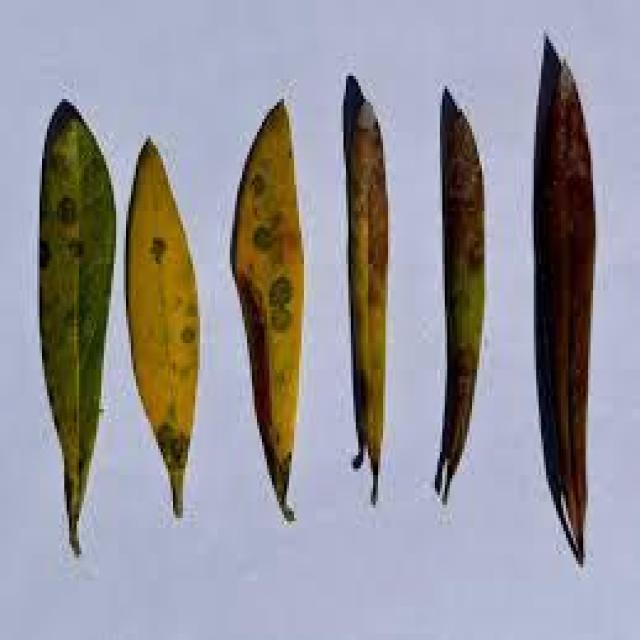Peacock Eye: (40, 99, 114, 554), (230, 102, 301, 521), (124, 142, 198, 515), (435, 86, 482, 501), (346, 76, 385, 501)
